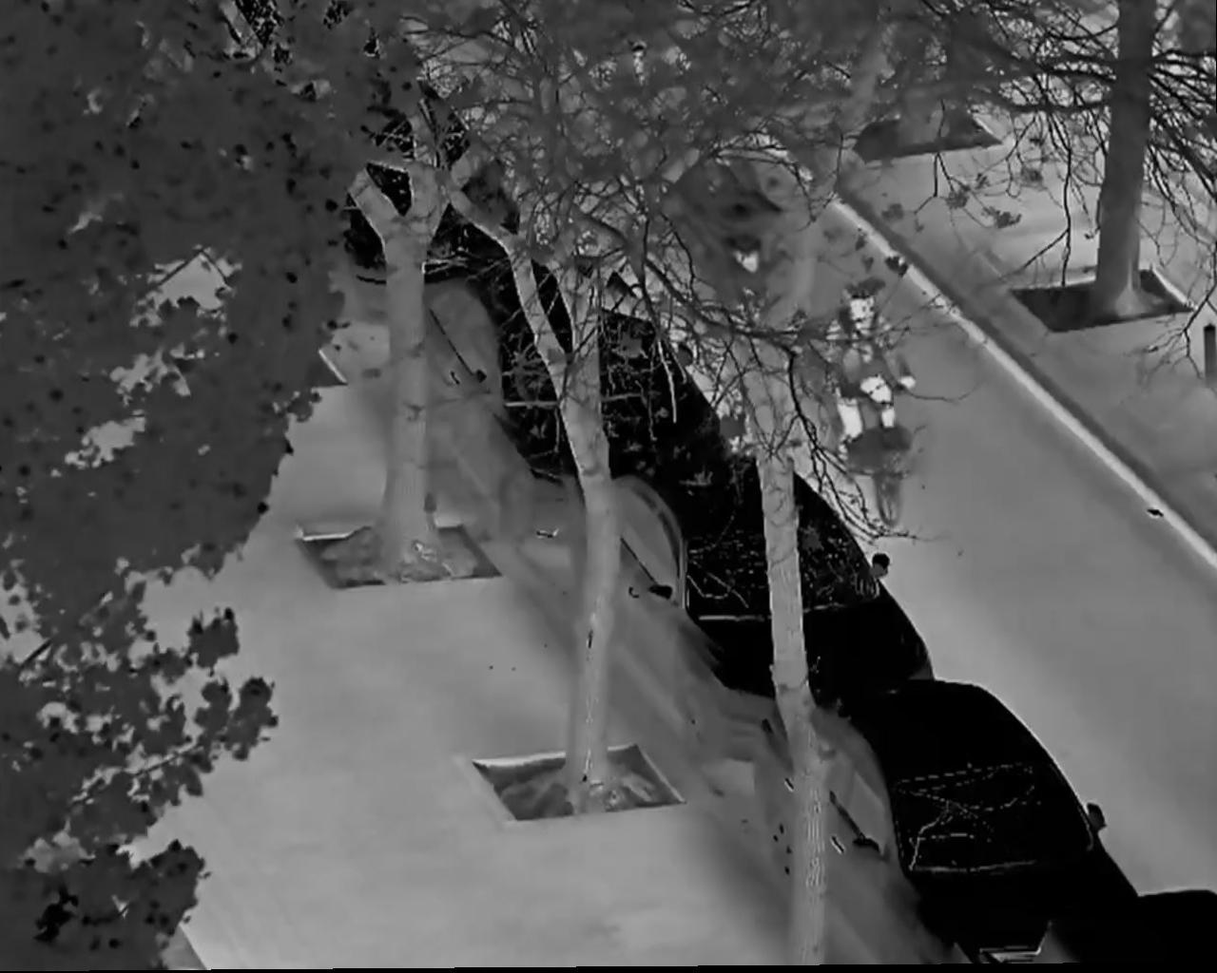person: (826, 297, 921, 480)
